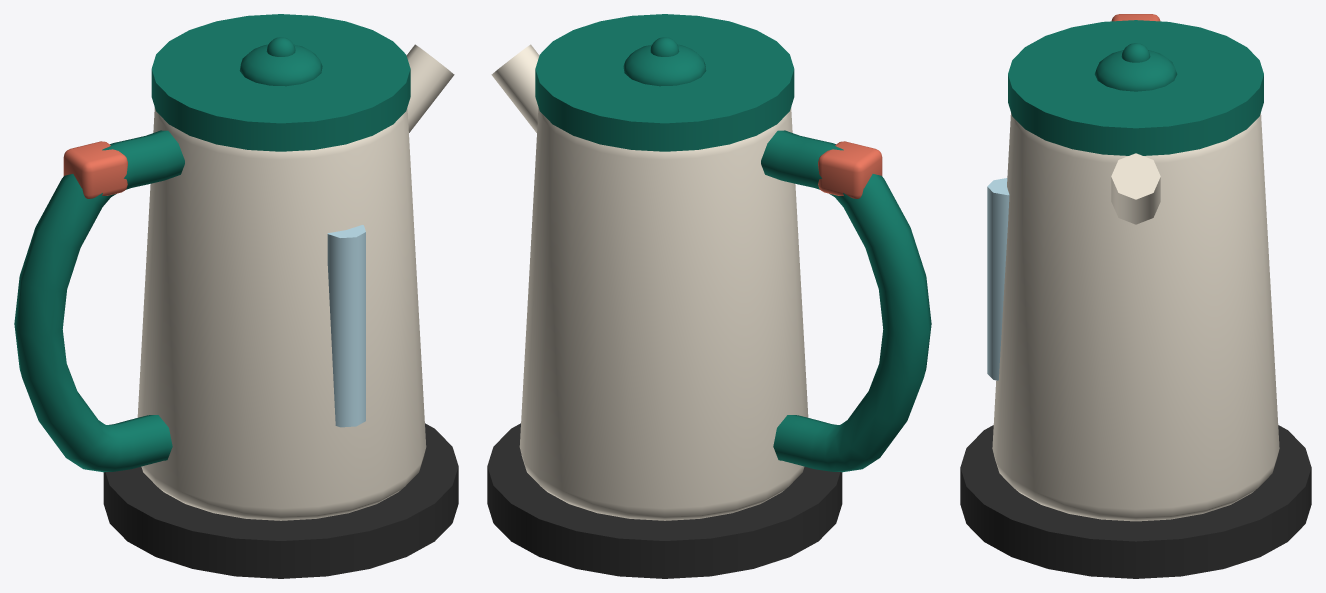
File: kettle_c.glb
3 renders of one model, left to right at view 1: azimuth 30°, elevation 25°; view 2: azimuth 150°, elevation 25°; view 3: azimuth 270°, elevation 25°, orthographic.
Visible parts, largest first — view 1: body; view 2: body; view 3: body.
Part boxes in pixels (left/top/right/bottom): body: left=14, top=14, right=458, bottom=578; body: left=487, top=14, right=931, bottom=578; body: left=960, top=14, right=1311, bottom=578.
Bounding box in the file's own units: 0.2396 × 0.246 × 0.17.
